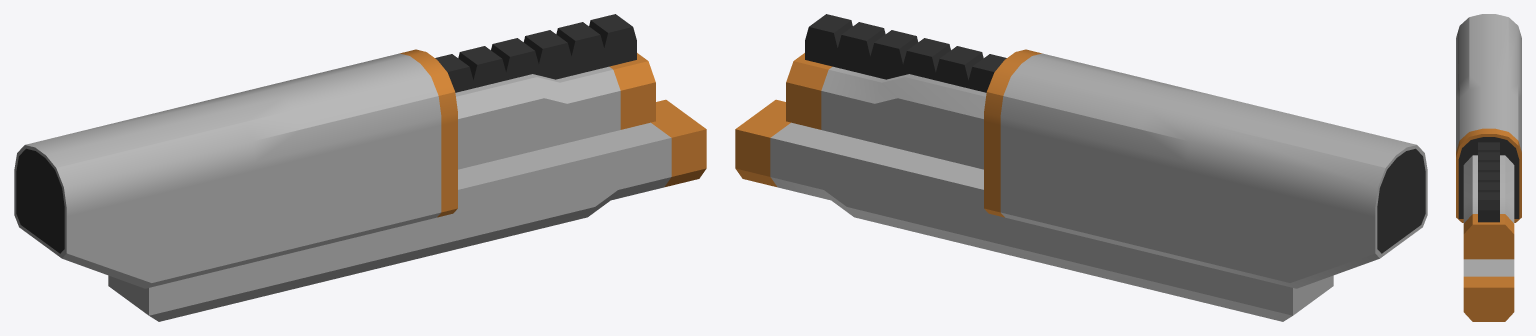
The model's file is Body_Grenade_2.gltf.
The picture shows the model from 3 angles, left to right: view 1: azimuth 30°, elevation 25°; view 2: azimuth 150°, elevation 25°; view 3: azimuth 270°, elevation 25°; orthographic projection. The views are drawn at different scales.
Visible parts, largest first — view 1: Body_Grenade_2; view 2: Body_Grenade_2; view 3: Body_Grenade_2.
Part boxes in pixels (x1,y1,x2,y2): Body_Grenade_2: (14, 14, 706, 321); Body_Grenade_2: (735, 14, 1427, 321); Body_Grenade_2: (1456, 14, 1521, 321).
Size of the model in its own units: 1.33 by 0.369 by 0.1876.
